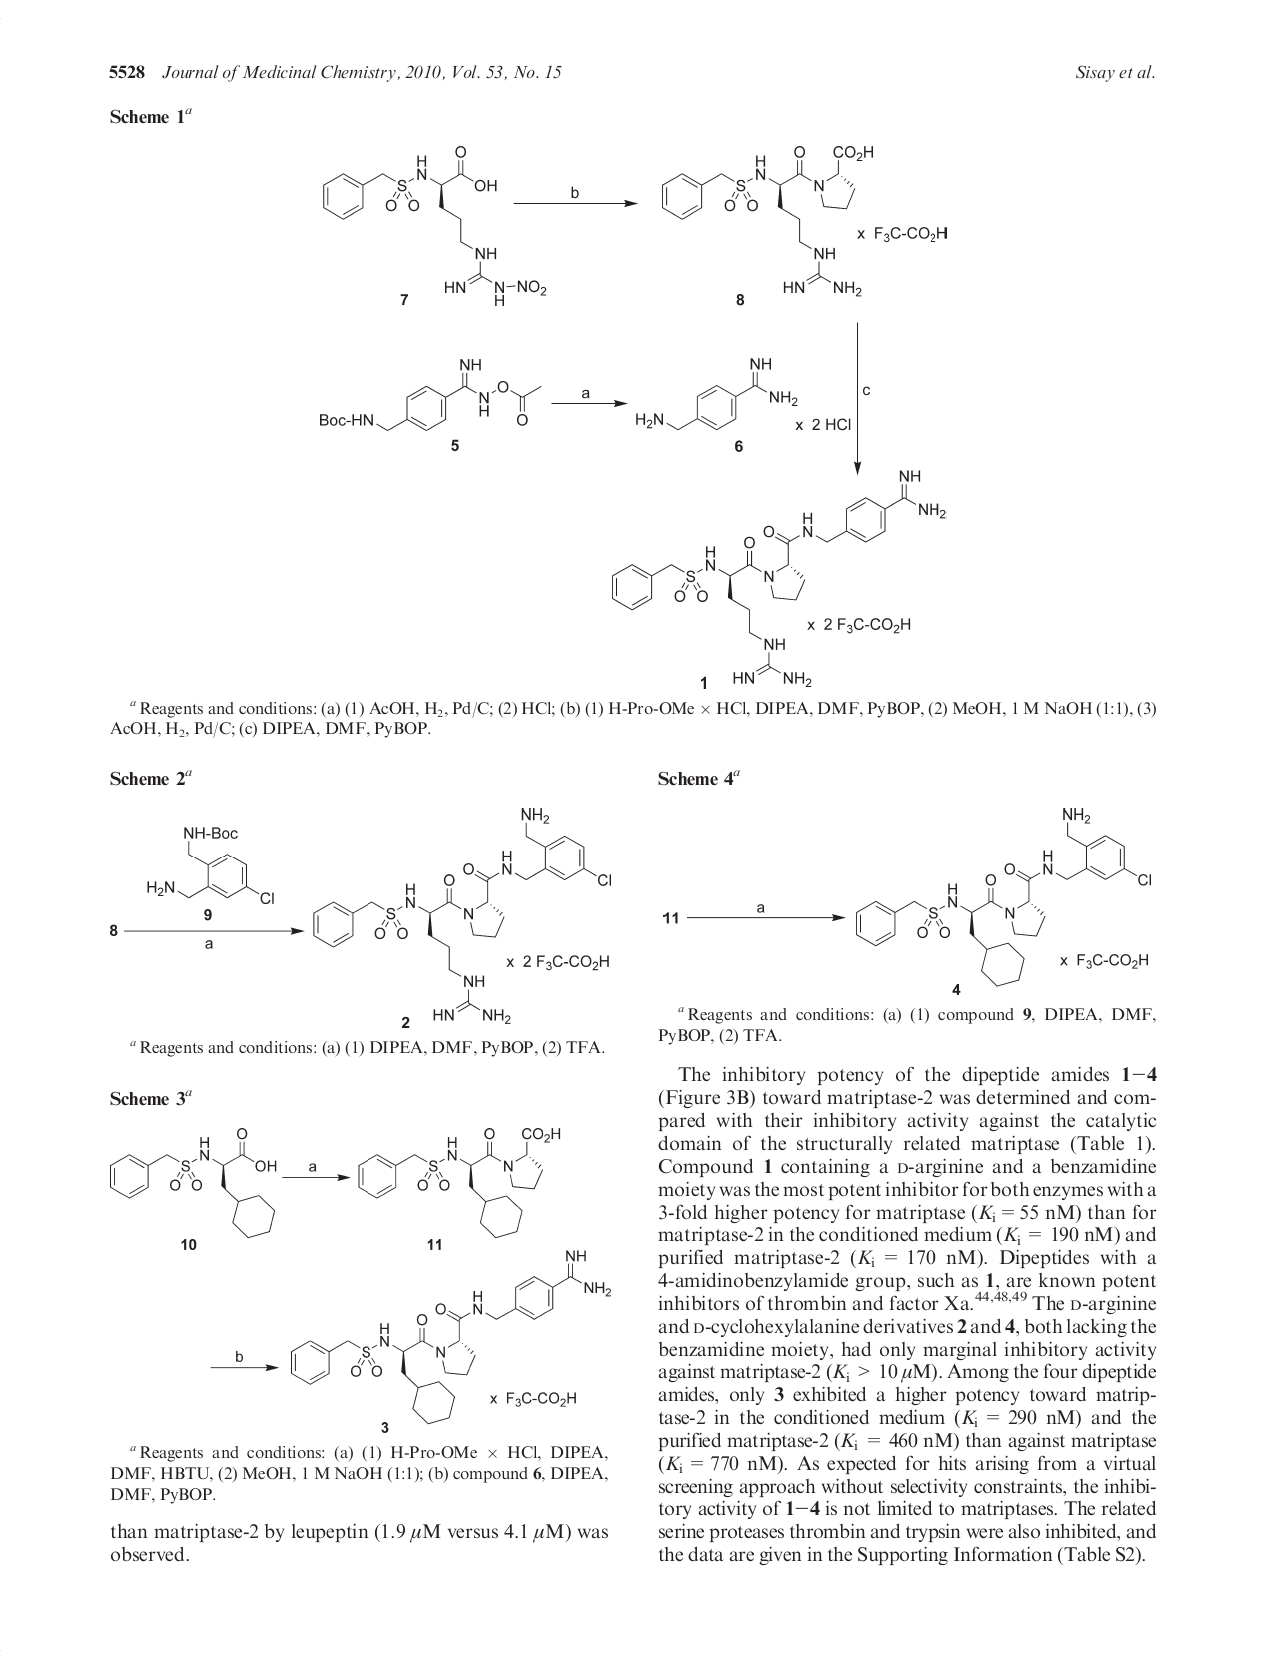exist_molecular: (608, 469, 947, 689), (306, 803, 618, 1029), (285, 1245, 616, 1426), (854, 801, 1158, 989), (654, 138, 959, 303), (320, 134, 547, 313), (354, 1110, 570, 1239), (108, 1122, 283, 1245), (314, 351, 552, 436), (628, 355, 801, 438), (137, 819, 281, 907)
